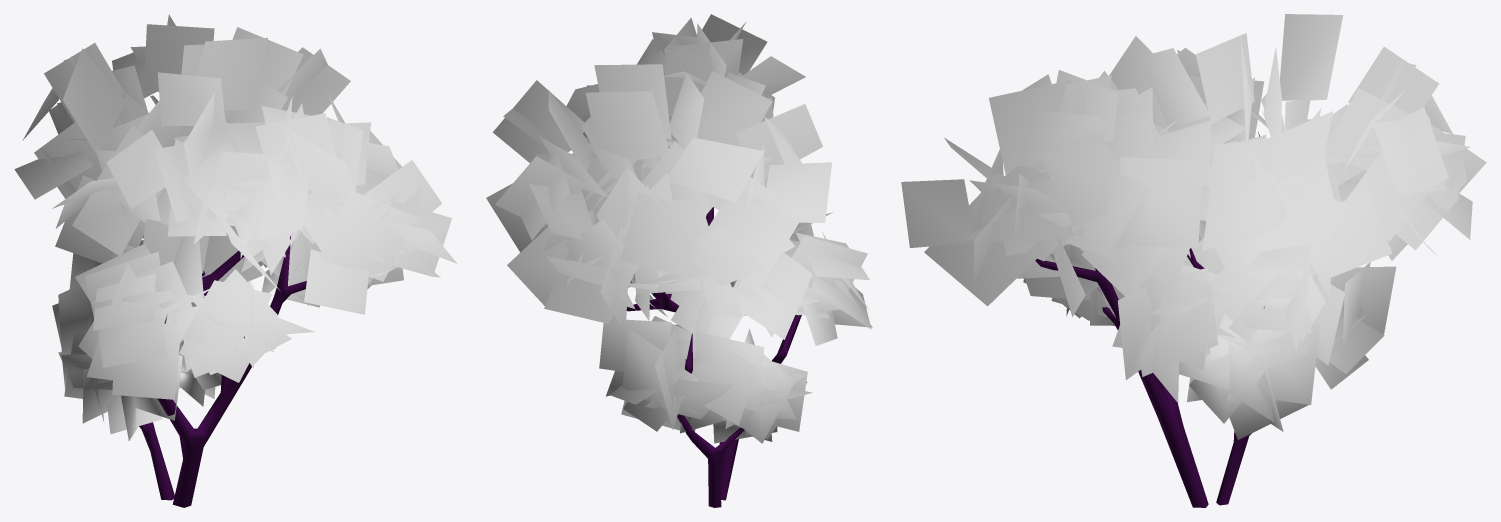
Rendered from m_TreeSmall3_LOD1.fbx.
The picture shows the model from 3 angles, left to right: view 1: azimuth 30°, elevation 25°; view 2: azimuth 150°, elevation 25°; view 3: azimuth 270°, elevation 25°; orthographic projection. The views are drawn at different scales.
Parts seen in each view (by area): view 1: TreeSmall3_LOD1; view 2: TreeSmall3_LOD1; view 3: TreeSmall3_LOD1.
Boxes of the visible parts, box(x1,y1,x2,y2) form: TreeSmall3_LOD1: box(14, 14, 457, 507); TreeSmall3_LOD1: box(486, 14, 872, 507); TreeSmall3_LOD1: box(901, 14, 1486, 507).
Bounding box in the file's own units: 890 × 1168 × 1254.
